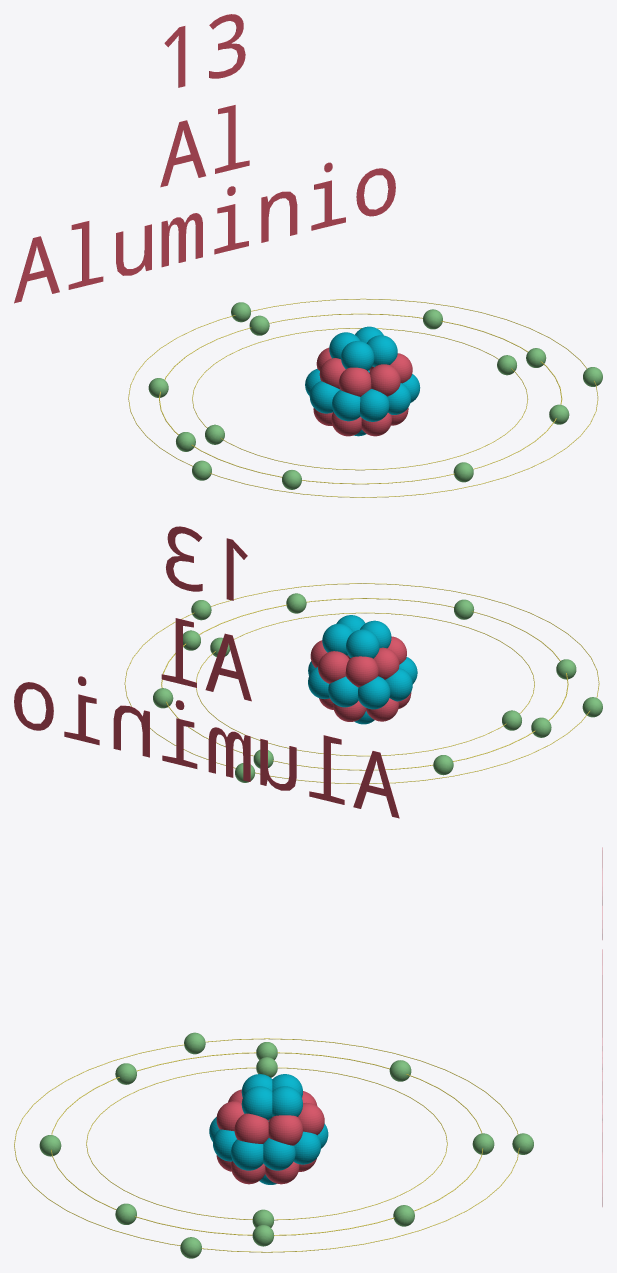
Rendered from 13-ALUMINIO-ANDROID.glb.
3 views of the same model, one above another, from view 1: azimuth 30°, elevation 25°; view 2: azimuth 150°, elevation 25°; view 3: azimuth 270°, elevation 25° (orthographic). The views are drawn at different scales.
Parts seen in each view (by area): view 1: Mesh_Mesh_head_geo.001_lambert2SG.001; view 2: Mesh_Mesh_head_geo.001_lambert2SG.001; view 3: Mesh_Mesh_head_geo.001_lambert2SG.001.
Boxes of the visible parts, x1,y1,x2,y2 form: Mesh_Mesh_head_geo.001_lambert2SG.001: (14, 14, 602, 497); Mesh_Mesh_head_geo.001_lambert2SG.001: (14, 526, 602, 818); Mesh_Mesh_head_geo.001_lambert2SG.001: (14, 847, 602, 1258).
Bounding box in the file's own units: 140 × 99.09 × 163.
